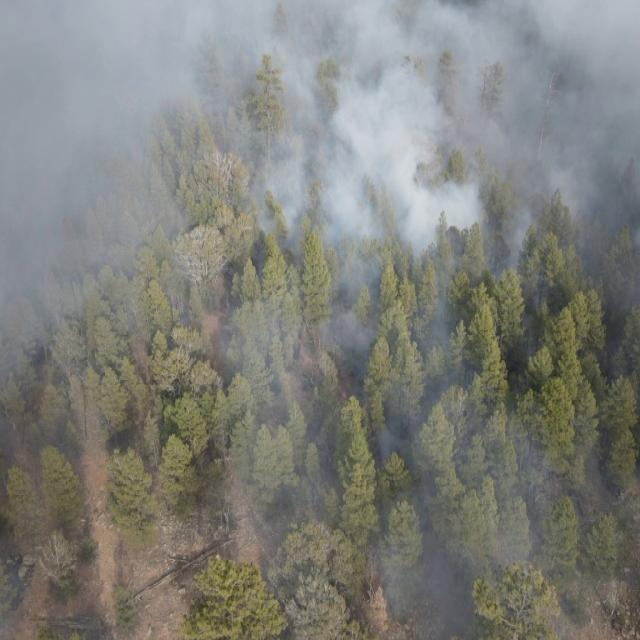smoke: (190, 255, 640, 640), (0, 0, 640, 254), (1, 372, 88, 640), (0, 255, 190, 373)
